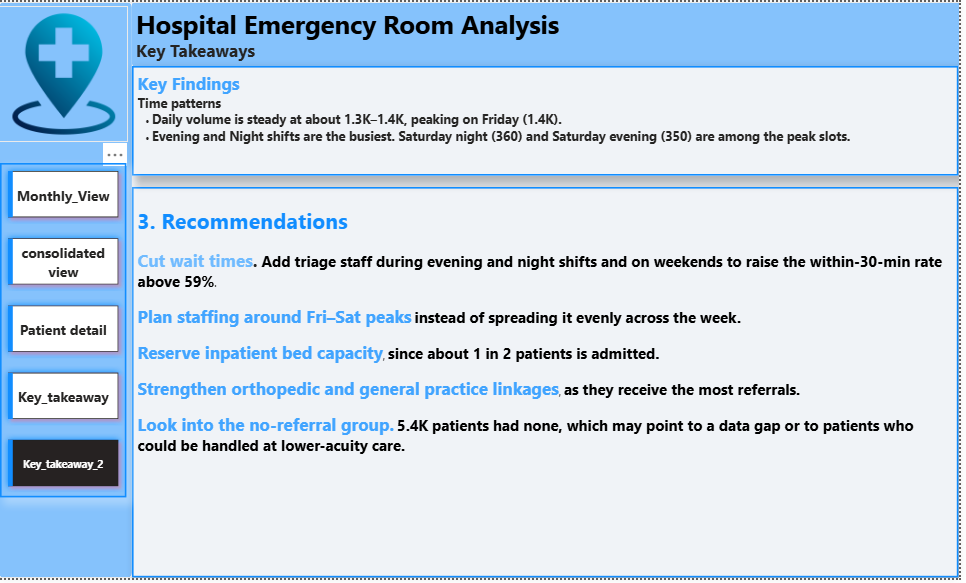

What the dashboard file says about the page in this screenshot:
{"tool":"powerbi","page":{"name":"  Key_takeaway_2 ","canvas":[1200,720],"ordinal":4},"visuals":[{"type":"group","id":"g1","title":"Group 1","box":[0,0,1280,720],"z":0},{"type":"shape","box":[0,0,166.3,720],"z":0,"group":"g1"},{"type":"shape","box":[166.3,0,1113.7,80.4],"z":1000,"group":"g1"},{"type":"textbox","box":[166.7,41.7,268.3,38.3],"z":1000},{"type":"textbox","box":[166.7,0,578.7,56.8],"z":2000,"group":"g1"},{"type":"textbox","box":[166.7,80,1033.3,136.7],"z":2000},{"type":"textbox","box":[166.7,231.7,1033.3,488.3],"z":3000},{"type":"pageNavigator","box":[1.7,201.7,158.3,418.3],"z":4000},{"type":"image","box":[0,5,161.7,170],"z":33000,"group":"g1"}]}

Visuals, with their boxes on the page's 1200x720 design canvas (x1, y1, x2, y2). These are canvas units, not pixel positions in the 966x583 screenshot, which may show the page scaled, cropped or inside an application window:
"Group 1" group: x1=0, y1=0, x2=1280, y2=720
shape: x1=0, y1=0, x2=166, y2=720
shape: x1=166, y1=0, x2=1280, y2=80
textbox: x1=167, y1=42, x2=435, y2=80
textbox: x1=167, y1=0, x2=745, y2=57
textbox: x1=167, y1=80, x2=1200, y2=217
textbox: x1=167, y1=232, x2=1200, y2=720
pageNavigator: x1=2, y1=202, x2=160, y2=620
image: x1=0, y1=5, x2=162, y2=175
